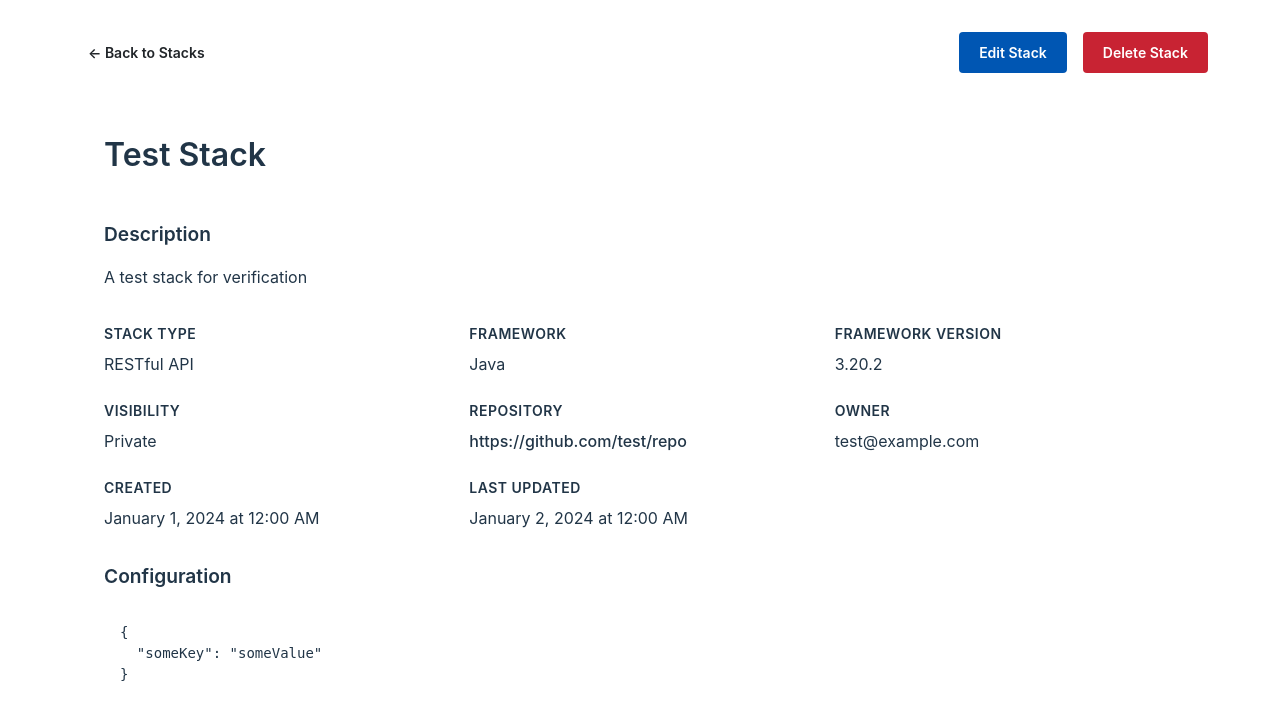
StackDetails - Removed Fields Tests › Requirement 6.3: Stack details functionality remains intact › should handle delete cancellation
Click delete button
Click the button "Delete Stack": (1145, 52) [1083,32,1208,73]
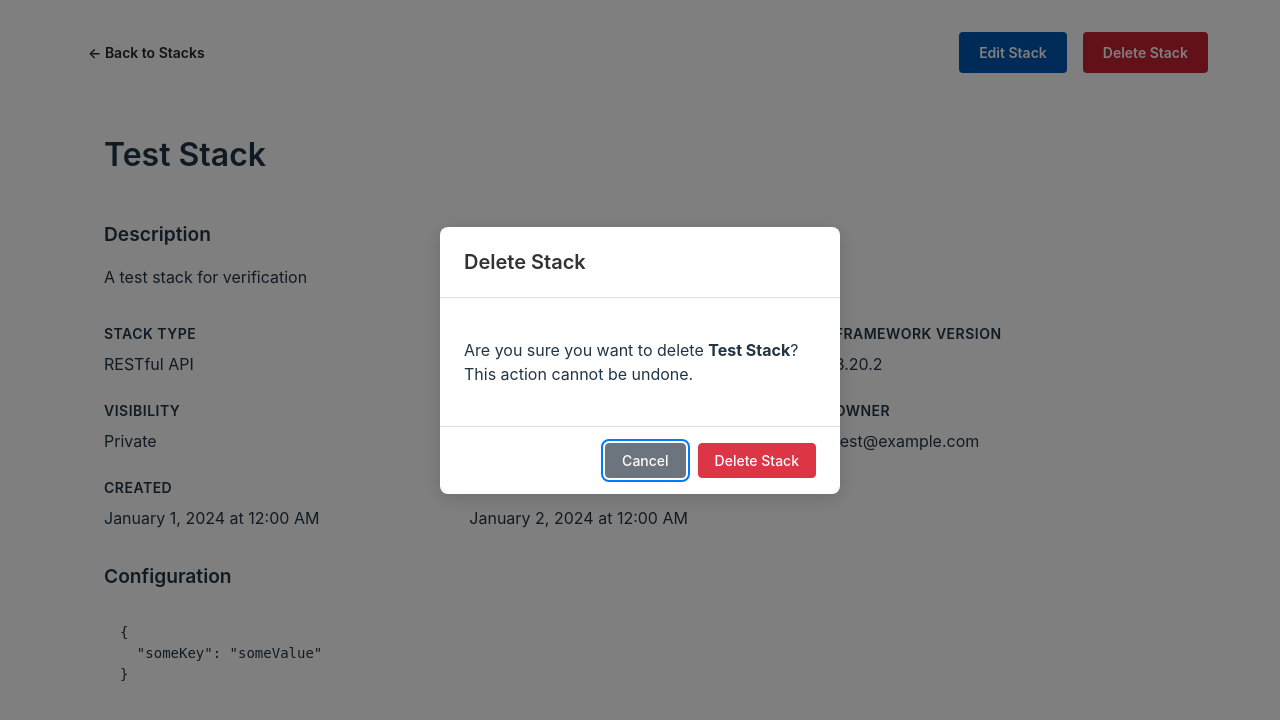
Now the text "Are you sure you want to delete" is shown, box [464,340,708,360]
Click the button "Cancel": (645, 460) [605,442,686,478]
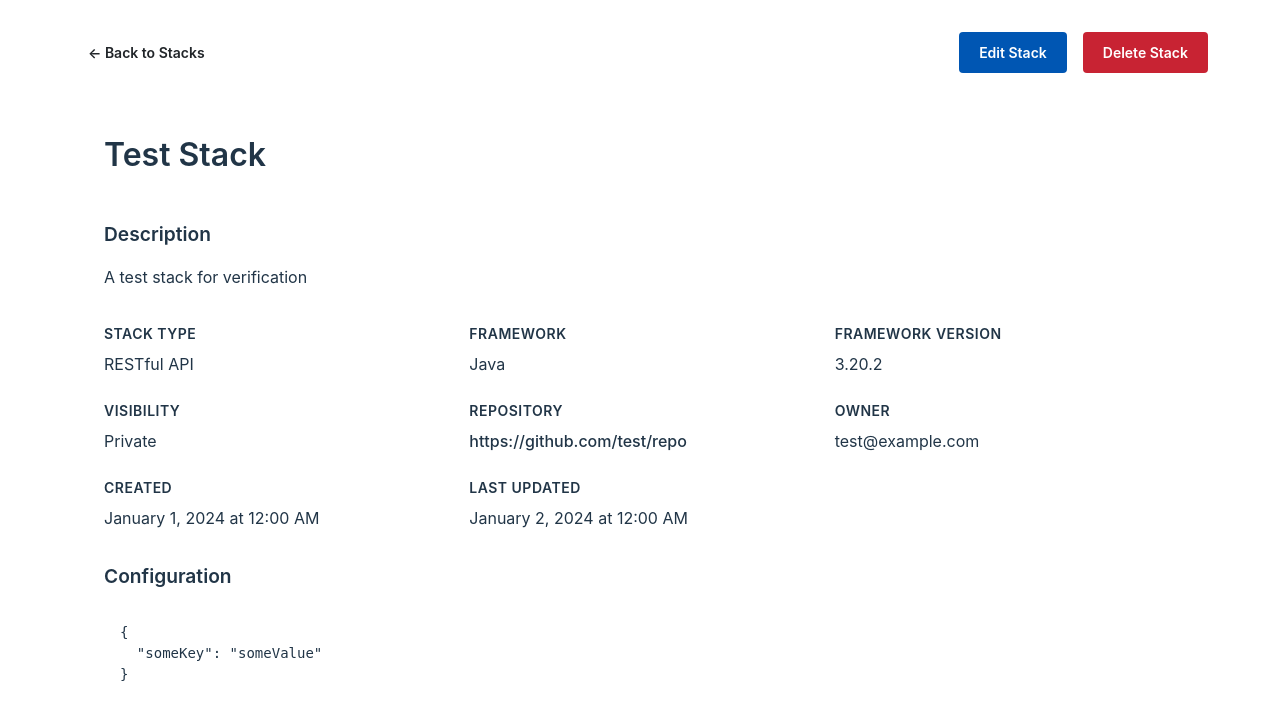
Now the text "Are you sure you want to delete" is gone
